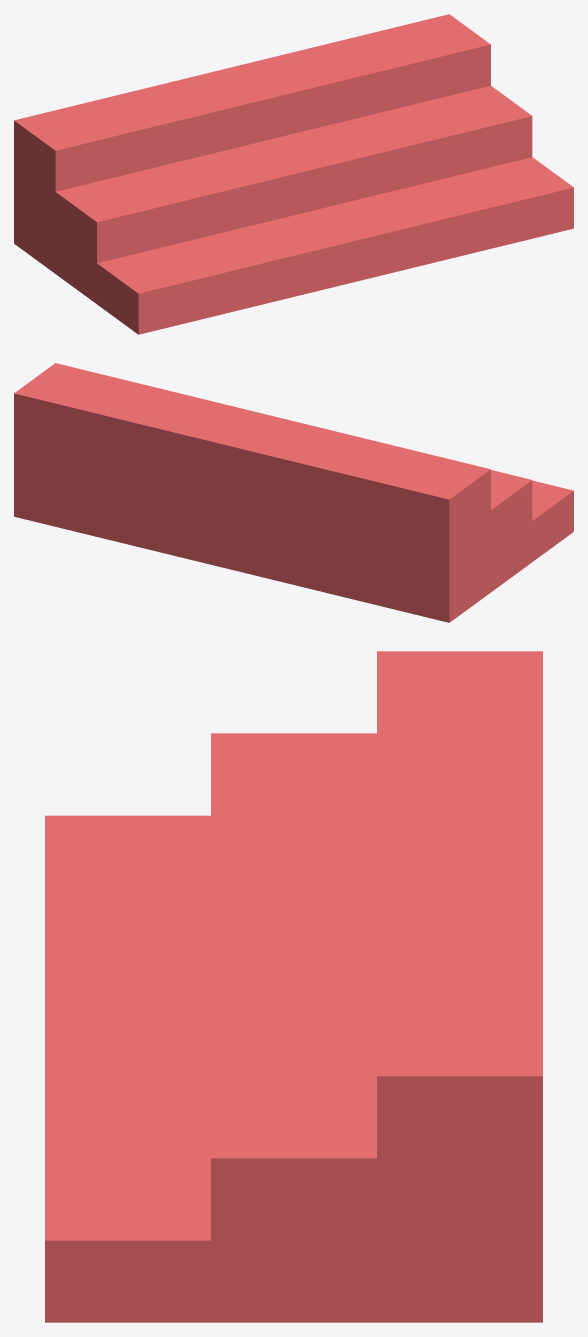
File: Stairs_091.glb
3 views of the same model, one above another, from view 1: azimuth 30°, elevation 25°; view 2: azimuth 150°, elevation 25°; view 3: azimuth 270°, elevation 25° (orthographic). The views are drawn at different scales.
Visible parts, largest first — view 1: Stairs_091; view 2: Stairs_091; view 3: Stairs_091.
Boxes of the visible parts, x1,y1,x2,y2 form: Stairs_091: (14,14,573,334); Stairs_091: (14,363,573,622); Stairs_091: (45,651,542,1322).
Bounding box in the file's own units: 1.62 × 0.4382 × 0.8027.
Materials: 1 (1 with a texture image).
